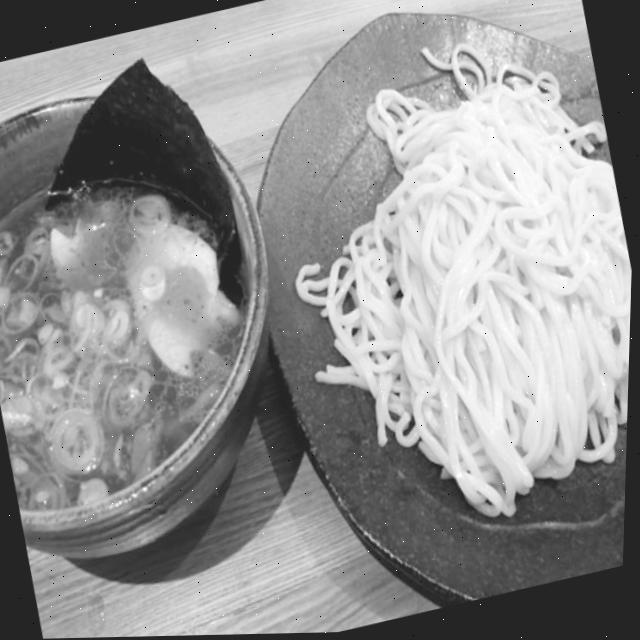面条主食: (0, 34, 639, 635)
